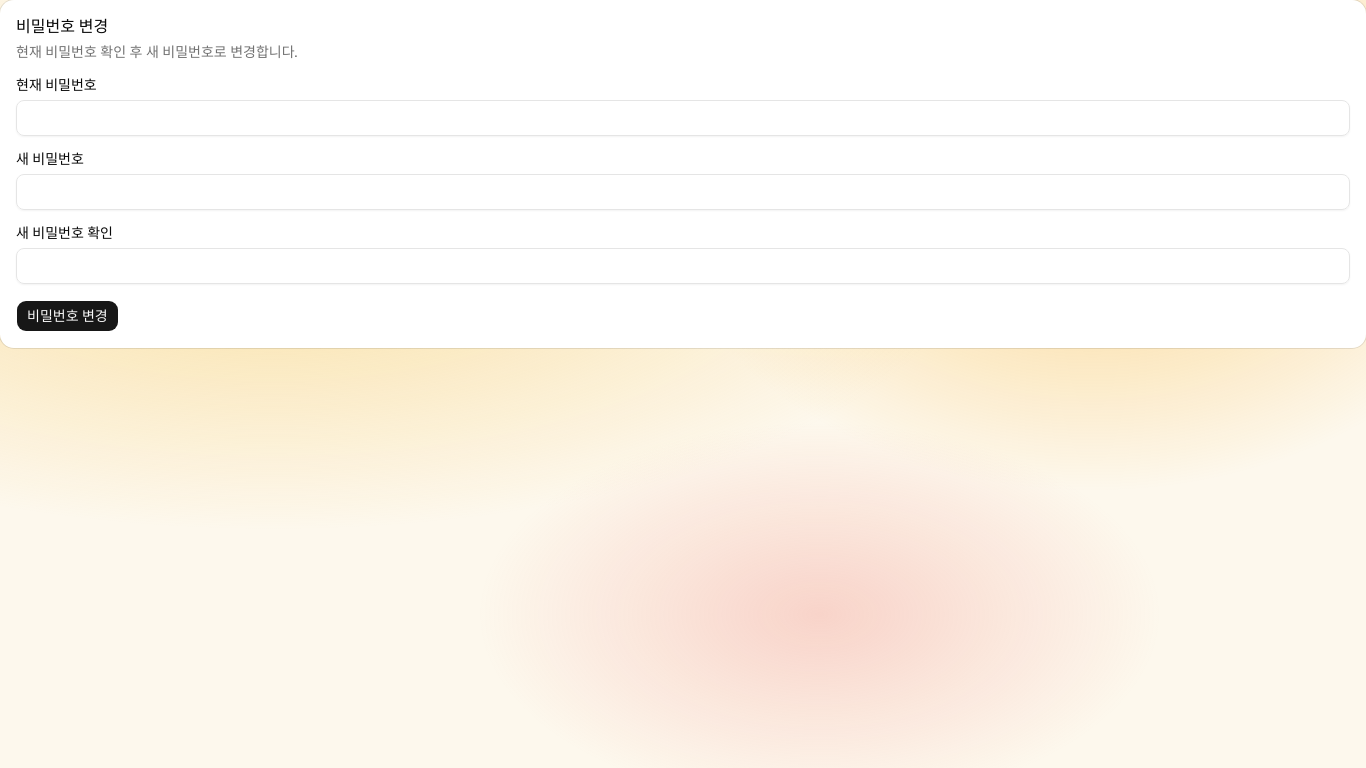
Test: PasswordChangeForm › 현재 비밀번호가 틀리면 서버 에러 메시지를 보여준다
This screenshot has width=1366, height=768.
Type "WrongPass999!" into the password field labelled "현재 비밀번호" at (683, 118), box [16,100,1350,136]
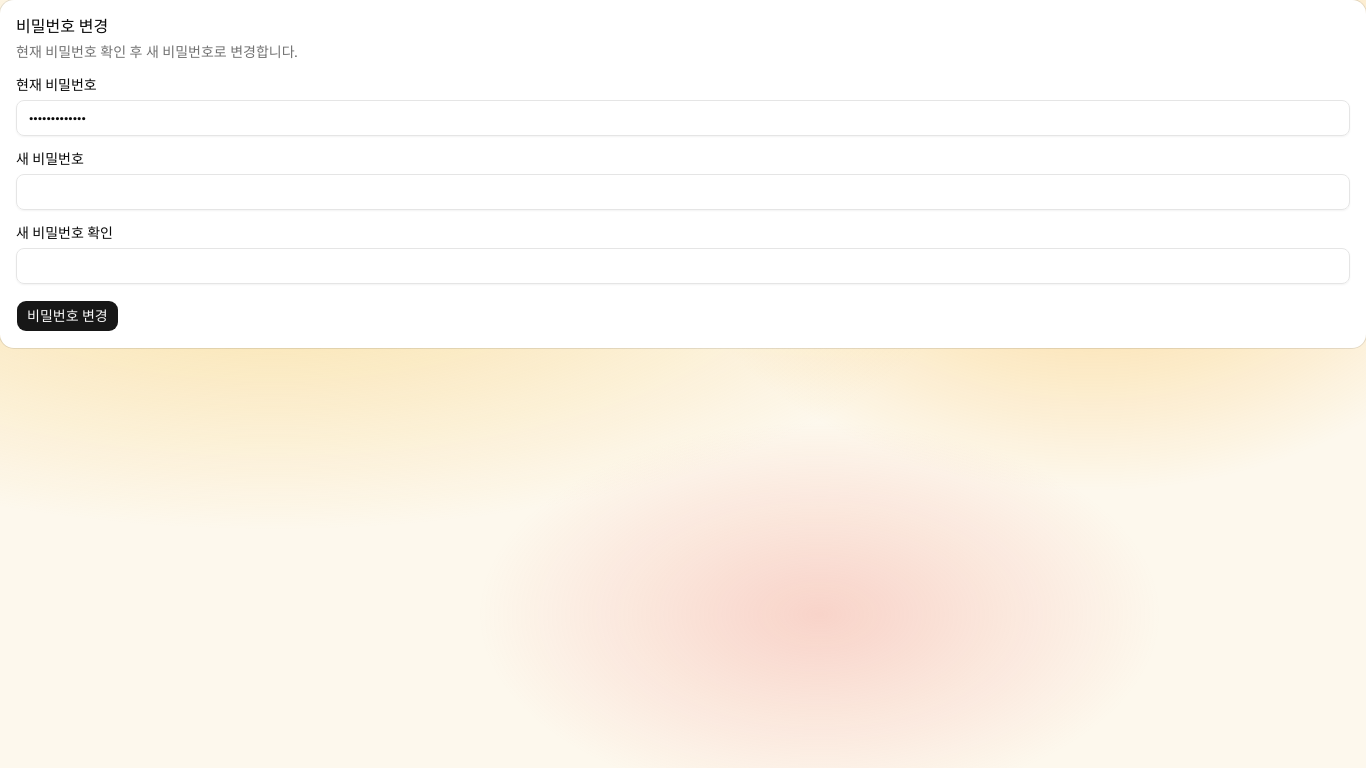
Type "NewPass456!" into the password field labelled "새 비밀번호" at (683, 192), box [16,174,1350,210]
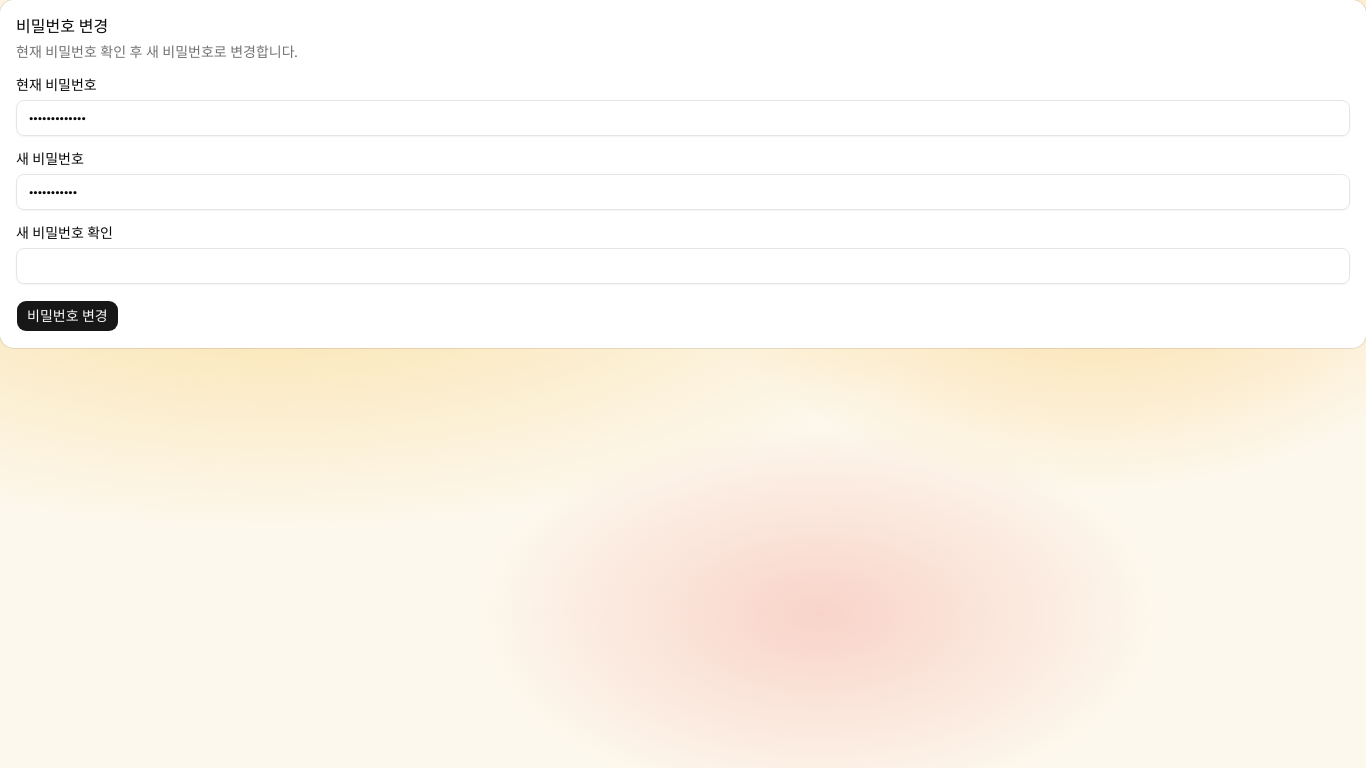
Type "NewPass456!" into the password field labelled "새 비밀번호 확인" at (683, 266), box [16,248,1350,284]
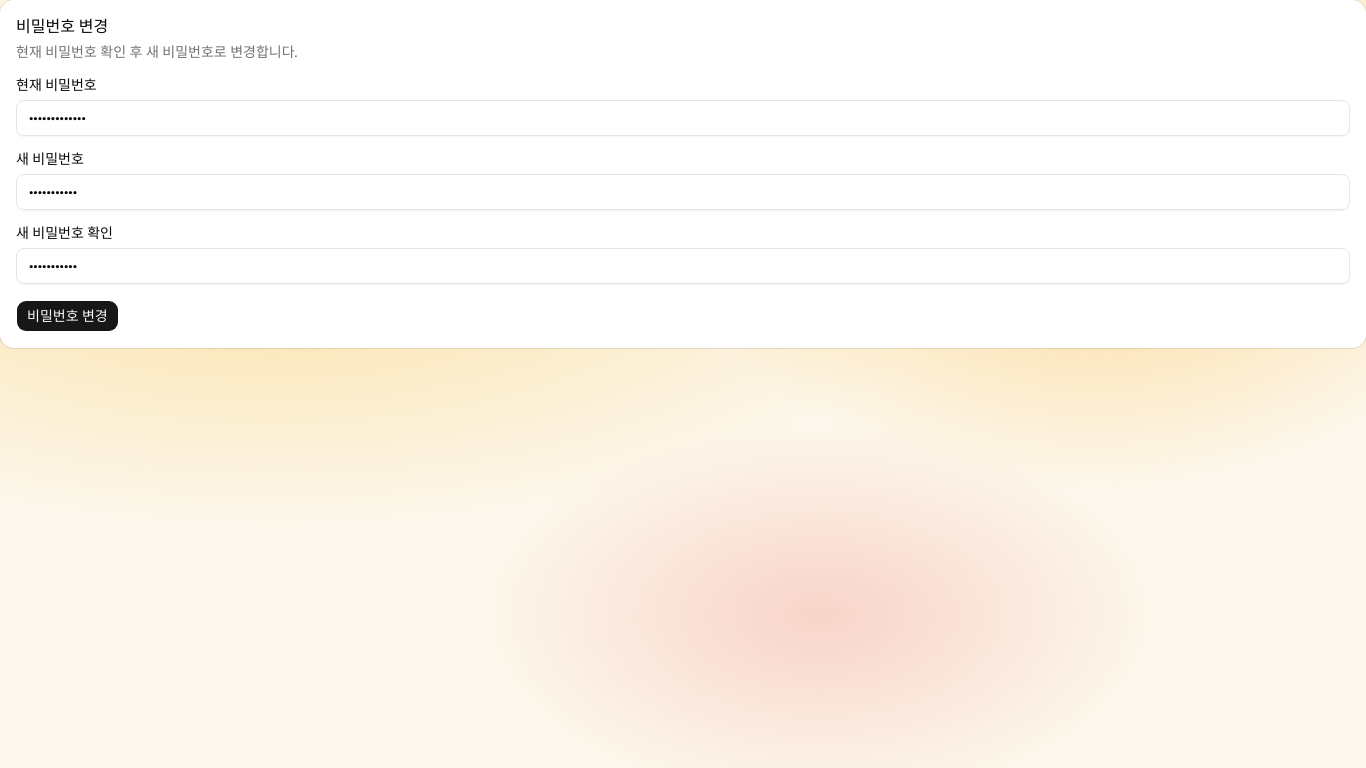
Click the button "비밀번호 변경" at (67, 316), box [16,300,119,332]
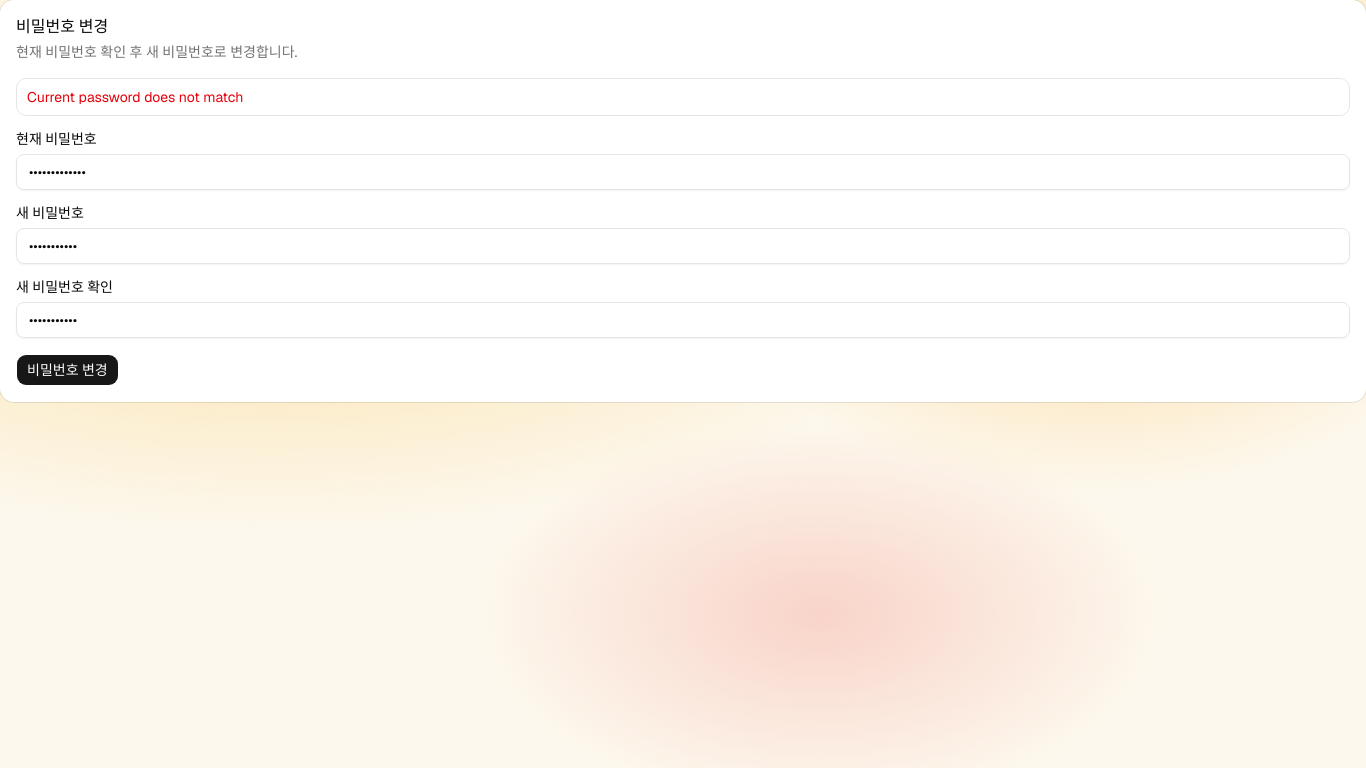
Check: the text "Current password does not match" is shown, box [16,78,1350,116]
